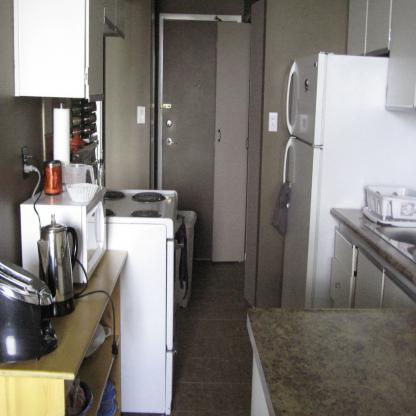door: (162, 16, 216, 260)
lever: (168, 140, 178, 145)
